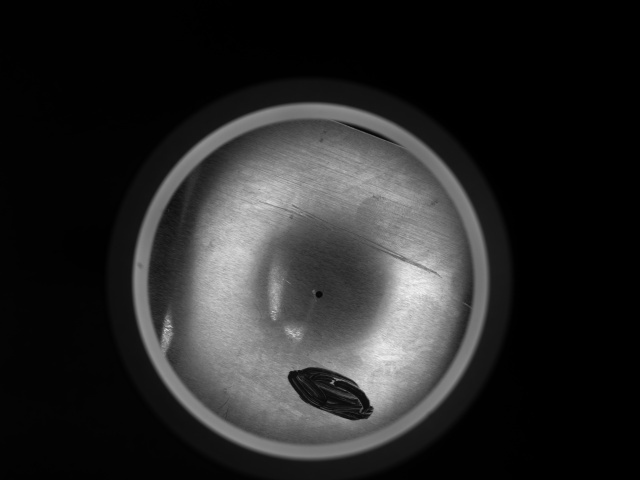ca_shang: (239, 190, 444, 281)
zang_wu: (284, 365, 377, 425)
zhen_kong: (311, 287, 328, 299)
